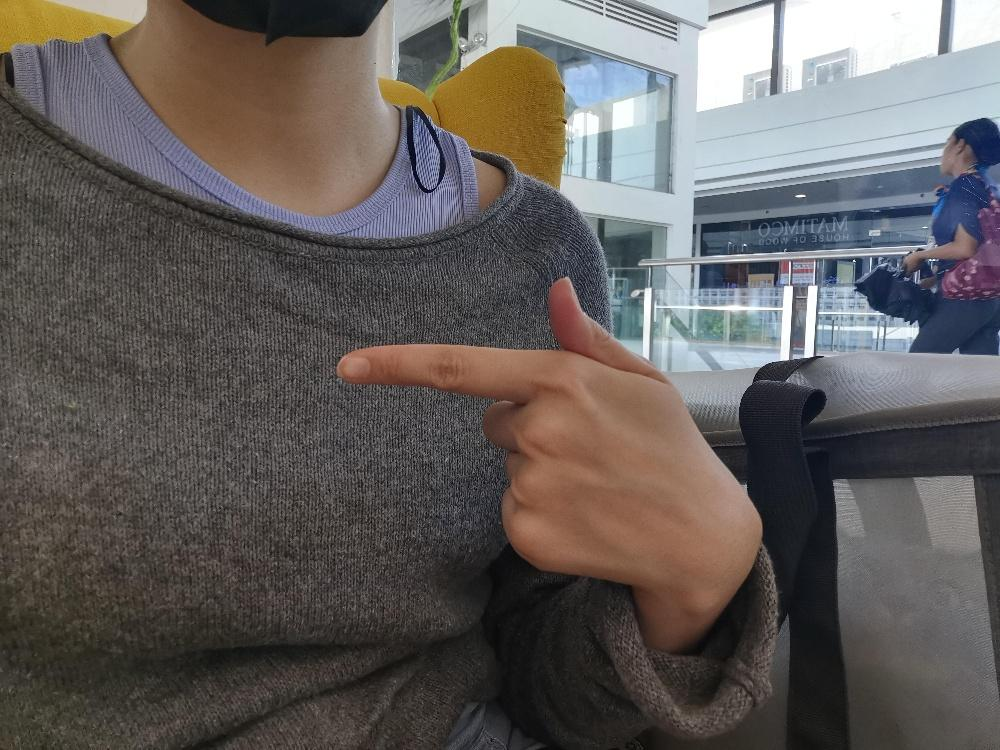g: (333, 272, 764, 599)
